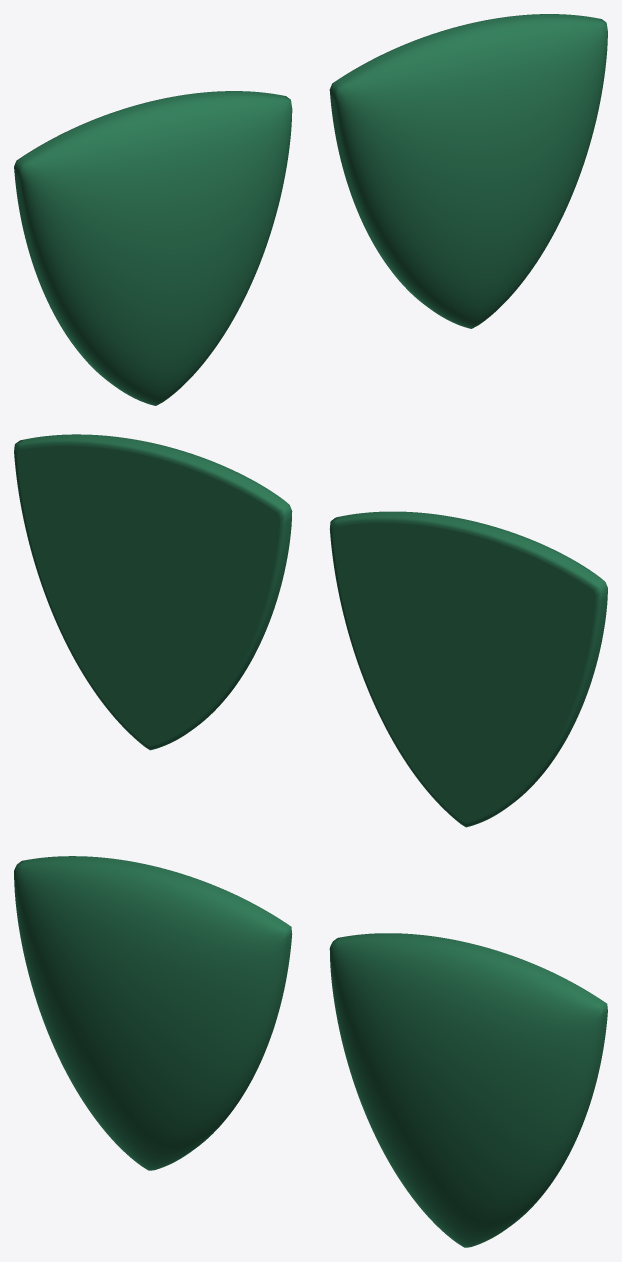
File: matched-pair-v1.glb
3 views of the same model, one above another, from view 1: azimuth 30°, elevation 25°; view 2: azimuth 150°, elevation 25°; view 3: azimuth 330°, elevation 25° (orthographic).
Parts seen in each view (by area): view 1: Trillion Cabochon 20x19x4mm, Trillion Cabochon 20x19x4mm.001; view 2: Trillion Cabochon 20x19x4mm.001, Trillion Cabochon 20x19x4mm; view 3: Trillion Cabochon 20x19x4mm, Trillion Cabochon 20x19x4mm.001.
Part boxes in pixels (x1,y1,x2,y2): Trillion Cabochon 20x19x4mm: (14, 91, 292, 405); Trillion Cabochon 20x19x4mm.001: (329, 14, 607, 328); Trillion Cabochon 20x19x4mm.001: (14, 434, 292, 750); Trillion Cabochon 20x19x4mm: (329, 511, 607, 827); Trillion Cabochon 20x19x4mm: (14, 856, 292, 1170); Trillion Cabochon 20x19x4mm.001: (329, 933, 607, 1247).
Size of the model in its own units: 0.0409 by 0.02 by 0.00398.
